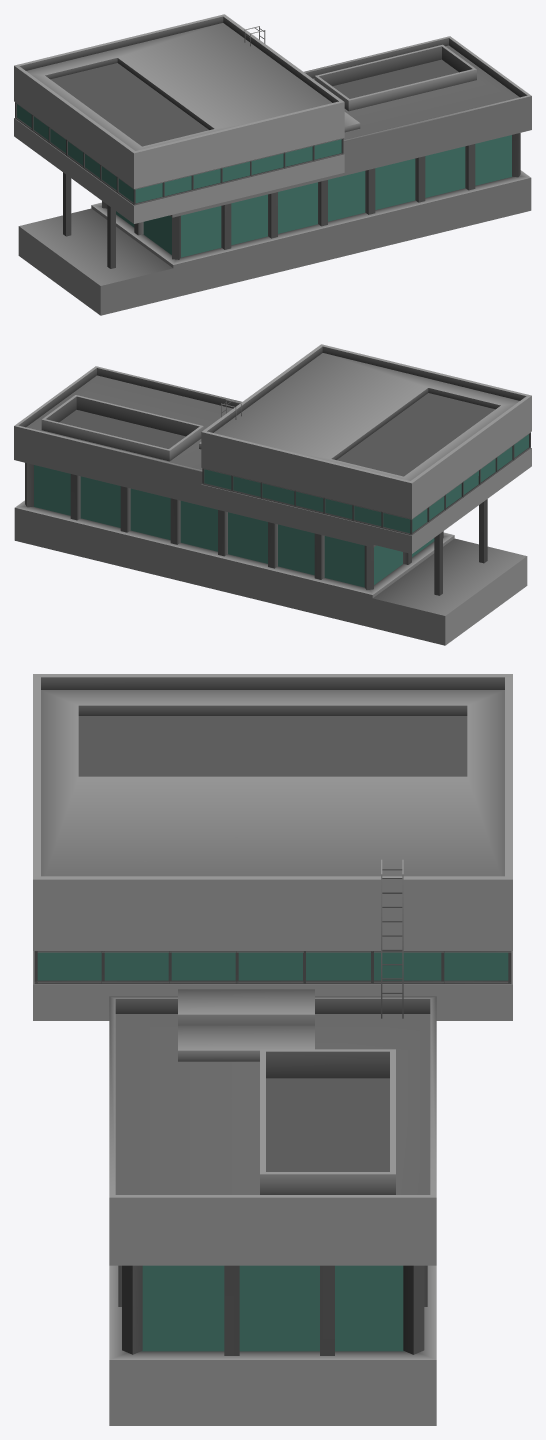
Rendered from buildings-industrial-industrialbuilding_v3.glb.
The picture shows the model from 3 angles, top to bottom: view 1: azimuth 30°, elevation 25°; view 2: azimuth 150°, elevation 25°; view 3: azimuth 270°, elevation 25°; orthographic projection. The views are drawn at different scales.
Parts seen in each view (by area): view 1: IndustrialBuilding_v3_base, IndustrialBuilding_v3_windowRefl; view 2: IndustrialBuilding_v3_base, IndustrialBuilding_v3_windowRefl; view 3: IndustrialBuilding_v3_base, IndustrialBuilding_v3_windowRefl.
Boxes of the visible parts, bbox=[...] form: IndustrialBuilding_v3_base: bbox=[14, 14, 531, 315]; IndustrialBuilding_v3_windowRefl: bbox=[17, 104, 511, 257]; IndustrialBuilding_v3_base: bbox=[14, 344, 531, 645]; IndustrialBuilding_v3_windowRefl: bbox=[34, 434, 528, 587]; IndustrialBuilding_v3_base: bbox=[33, 674, 512, 1425]; IndustrialBuilding_v3_windowRefl: bbox=[37, 952, 508, 1351].
Bounding box in the file's own units: 48.49 × 19.25 × 23.37.
